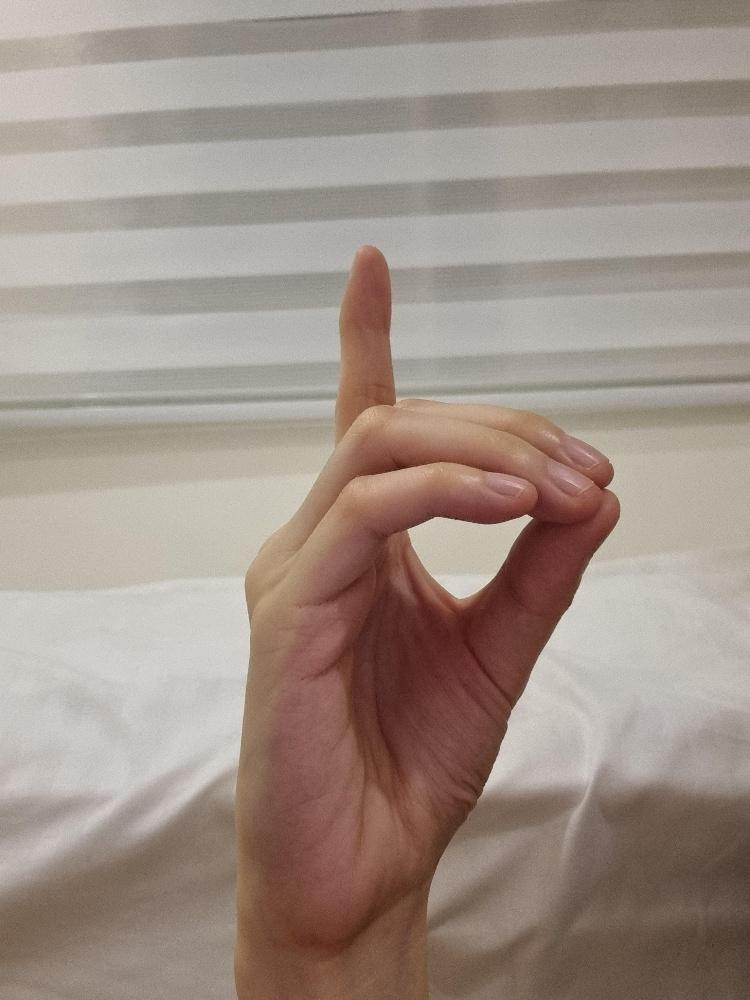d: (226, 238, 624, 948)
